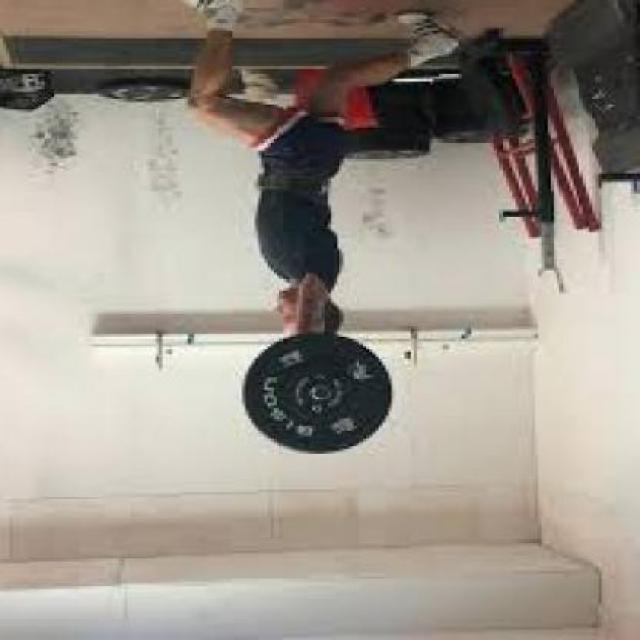Barbell: (306, 380, 334, 402)
